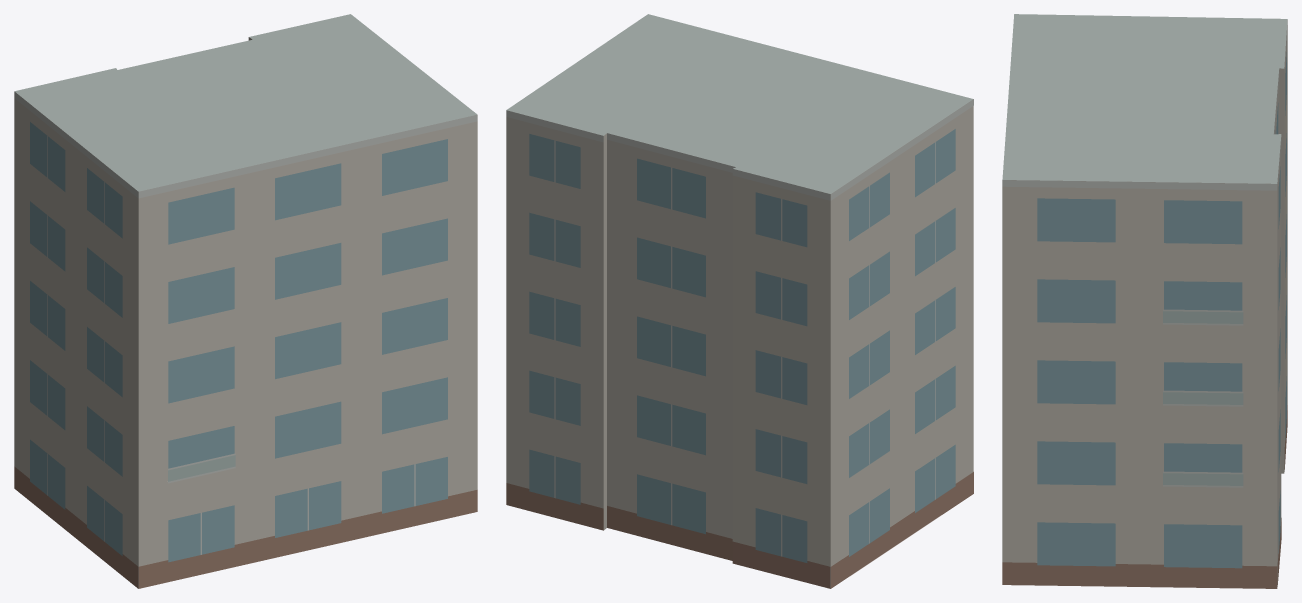
File: survey-upis-32607842.glb
3 views of the same model, side by side, from view 1: azimuth 30°, elevation 25°; view 2: azimuth 150°, elevation 25°; view 3: azimuth 270°, elevation 25° (orthographic). The views are drawn at different scales.
Visible parts, largest first — view 1: survey-upis-32607842.tmp; view 2: survey-upis-32607842.tmp; view 3: survey-upis-32607842.tmp.
Boxes of the visible parts, x1=… form: survey-upis-32607842.tmp: x1=14, y1=14, x2=477, y2=588; survey-upis-32607842.tmp: x1=506, y1=14, x2=973, y2=588; survey-upis-32607842.tmp: x1=1002, y1=14, x2=1287, y2=588.
Size of the model in its own units: 12.98 by 14.42 by 9.21.
